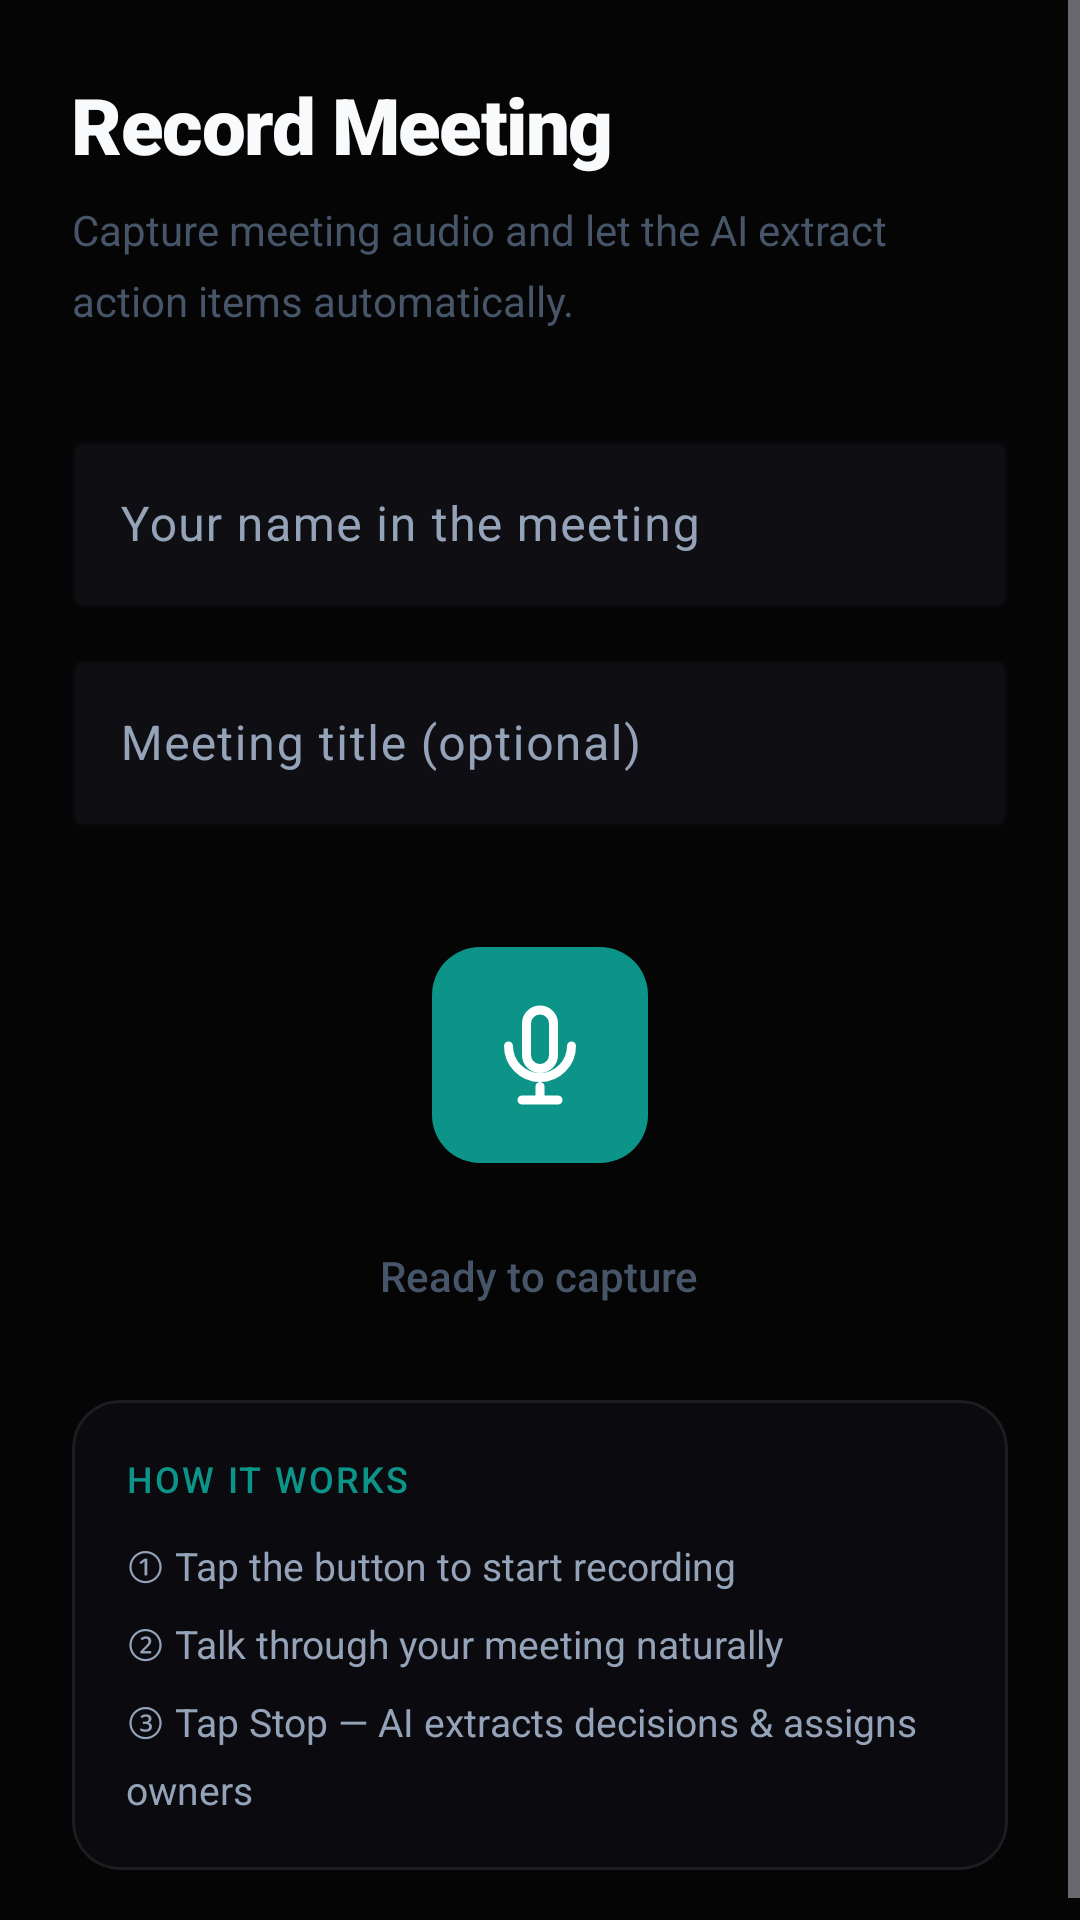

Icon bounding boxes for this 1080x1920 phone screenshot, format (x1, y1, x2, y2):
Record meeting: (432, 947, 648, 1163)
